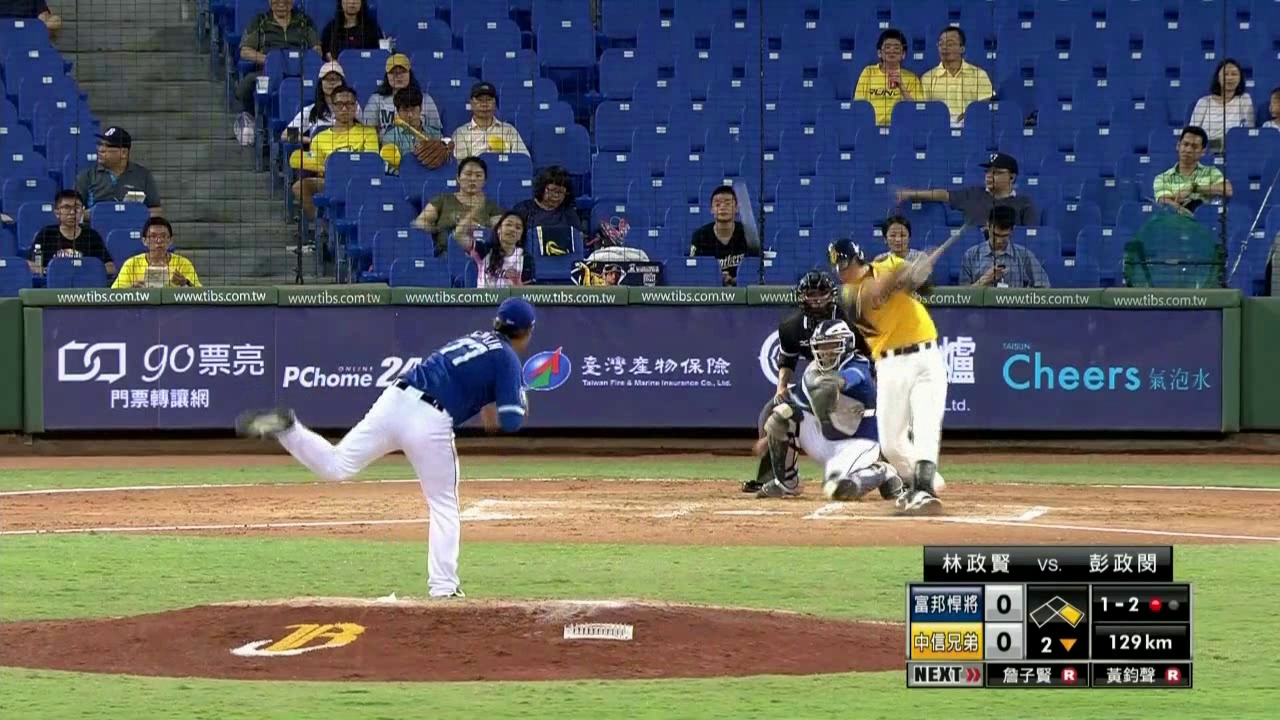ball: (739, 204, 754, 221)
base: (1029, 595, 1087, 629)
bat: (904, 214, 974, 287)
out: (1145, 590, 1182, 617)
score1: (987, 588, 1021, 619)
score2: (987, 625, 1022, 656)
session: (1027, 629, 1088, 660)
speed: (1093, 629, 1186, 657)
strikeball: (1094, 590, 1143, 619)
